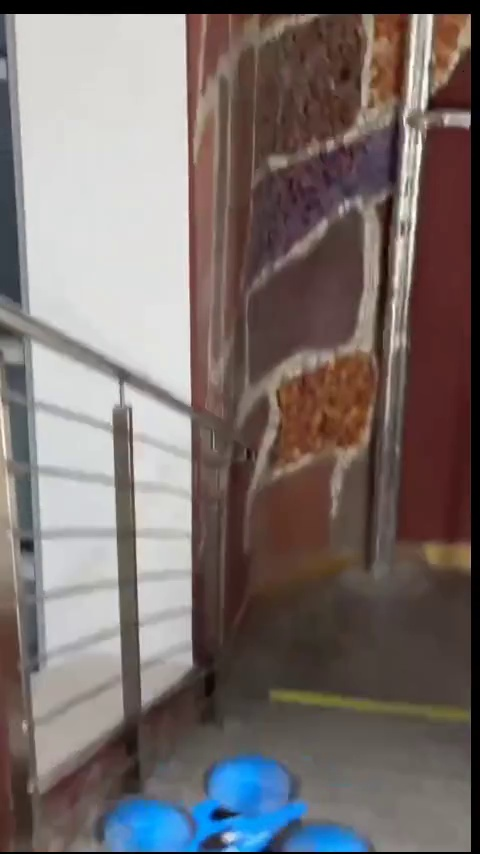drone: (98, 757, 373, 848)
